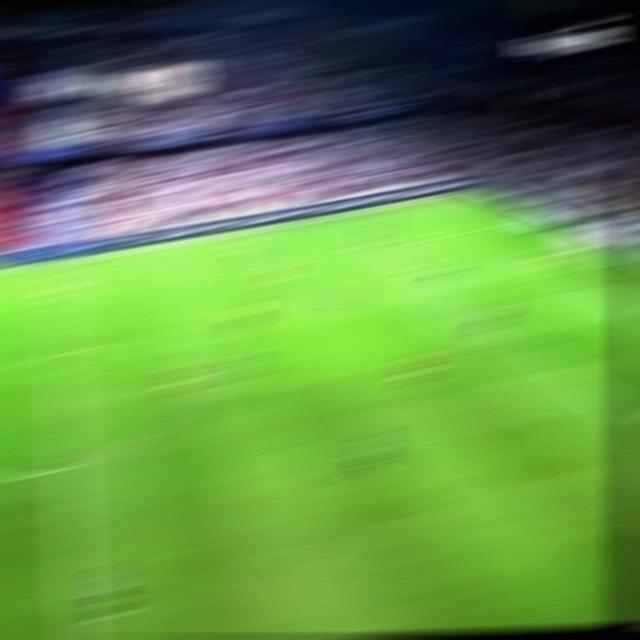bigarea_bottom_inner: (617, 412, 639, 433)
bigarea_top_inner: (375, 238, 408, 253)
bigarea_top_outter: (502, 215, 537, 230)
bottom_arc_area_intersection: (507, 333, 541, 350)
corner: (443, 189, 480, 203)
halfcircle_bottom: (43, 449, 88, 483)
halfcircle_top: (41, 338, 82, 365)
midline_top_intersection: (35, 260, 79, 272)
smallarea_top_inner: (515, 250, 551, 265)
smallarea_top_outter: (560, 244, 594, 254)
top_arc_area_intersection: (426, 275, 458, 288)
